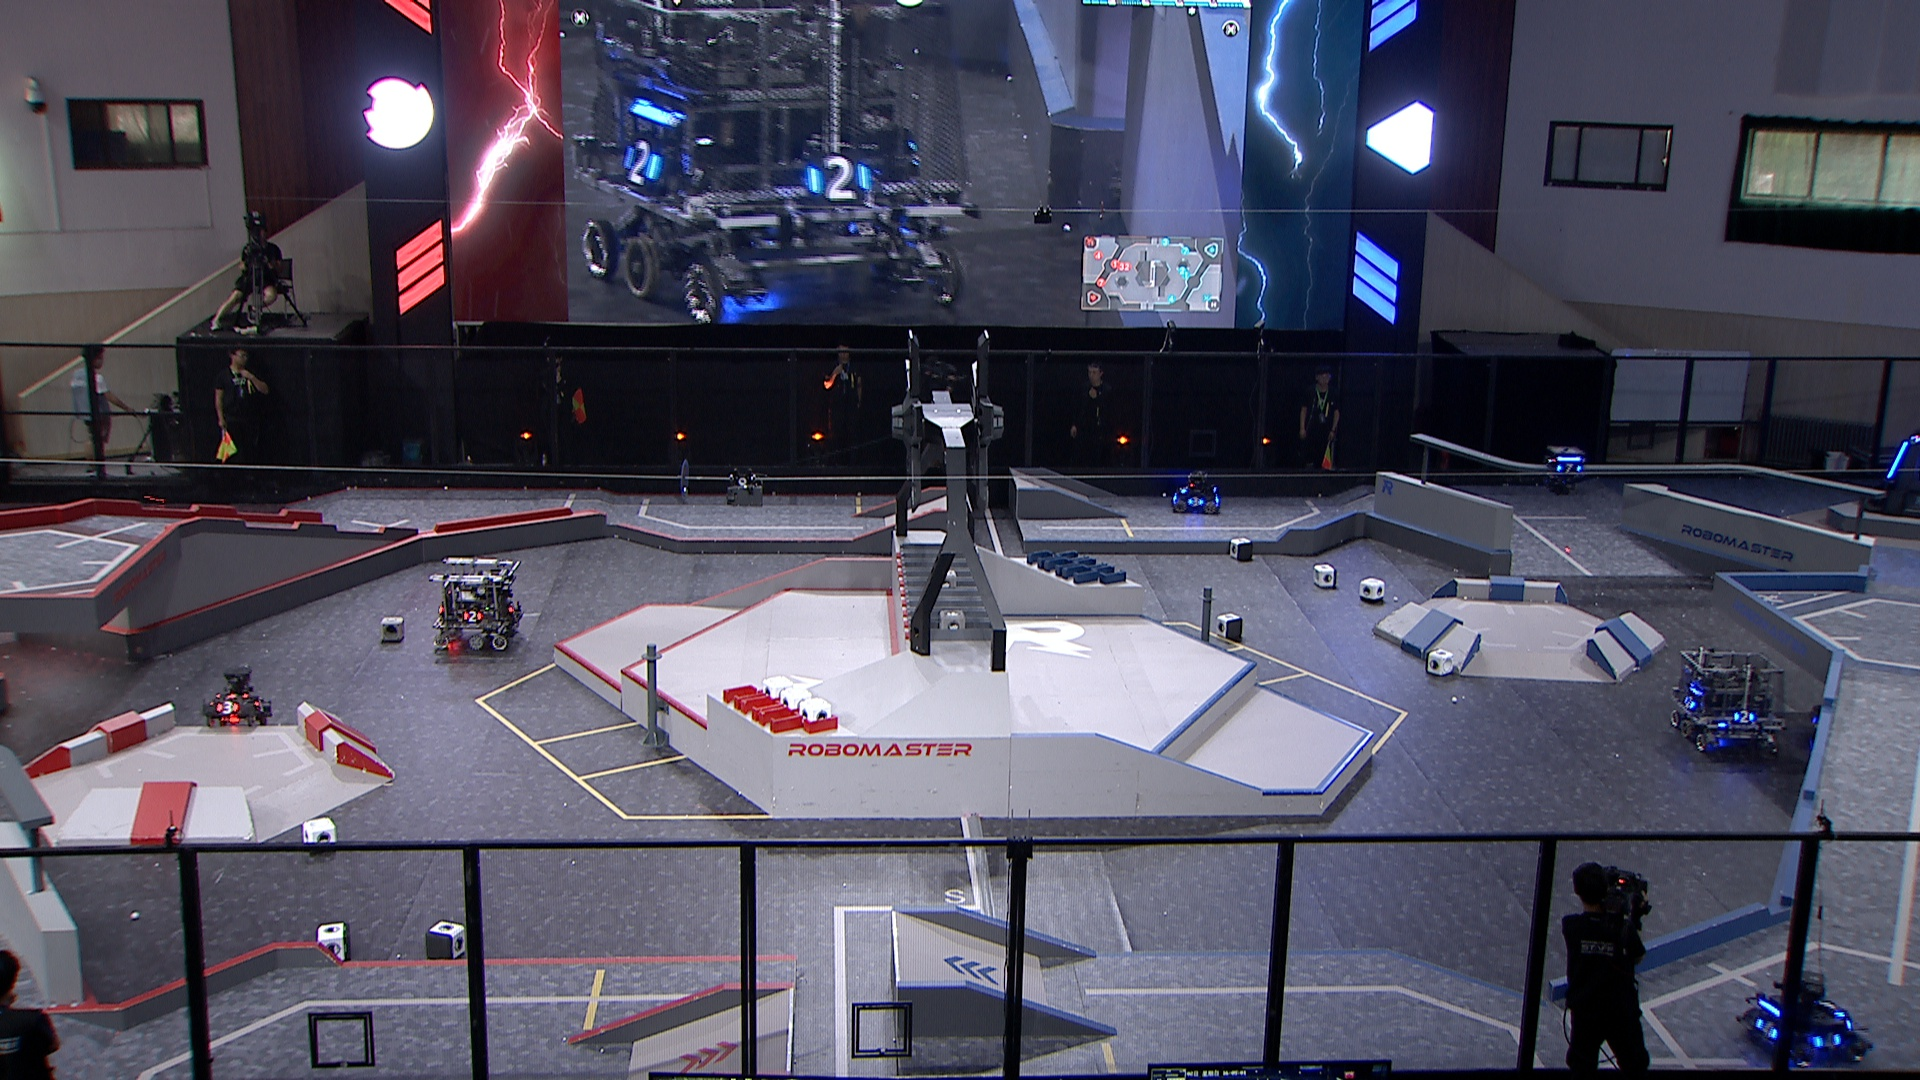armor: (1887, 439, 1911, 479), (1818, 998, 1847, 1021), (1815, 1031, 1844, 1052), (1755, 1019, 1780, 1040), (214, 700, 240, 717), (1555, 462, 1582, 476), (1185, 495, 1207, 510), (1683, 694, 1698, 712), (462, 611, 485, 622), (1735, 709, 1756, 723), (252, 698, 269, 713), (508, 603, 522, 616)
base: (1865, 434, 1920, 522)
car: (1737, 968, 1873, 1069), (1671, 647, 1792, 757), (429, 555, 524, 654), (202, 662, 273, 728), (1171, 467, 1221, 516)
ignore: (572, 1, 977, 324)
watcher: (1544, 443, 1588, 491)
